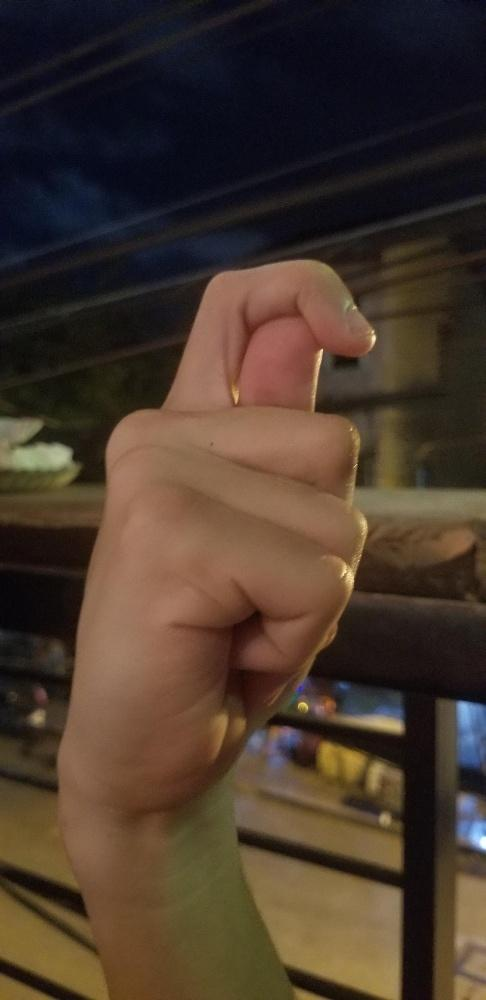t: (62, 252, 381, 815)
